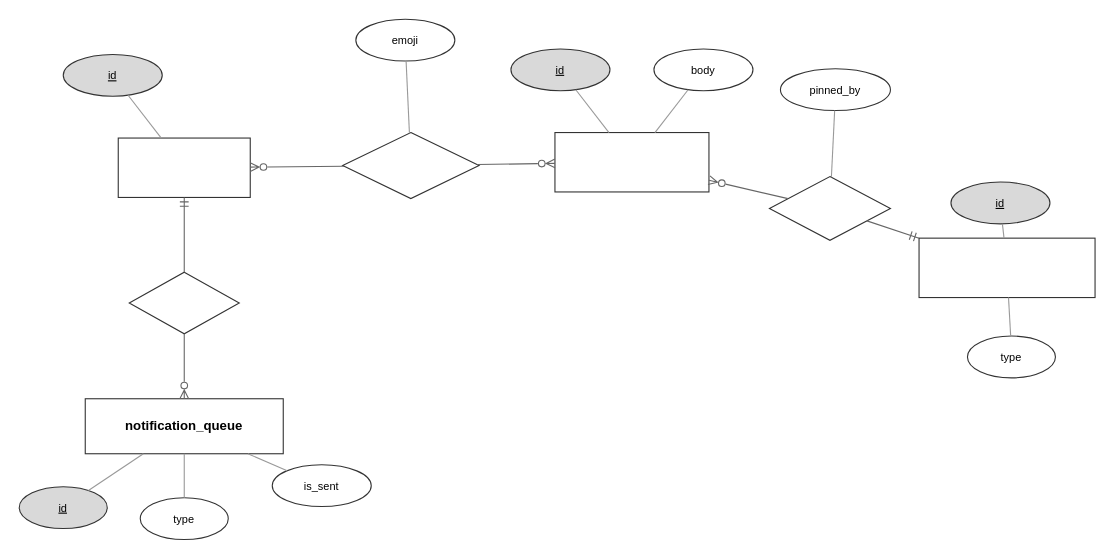
This 1114x559 diagram has some shape labels left out. Each missing label, with the centre of its shape:
Conversation: (x=1006, y=267)
ghim: (x=829, y=207)
Message: (x=631, y=161)
nhận: (x=183, y=302)
thả cảm xúc: (x=410, y=165)
User: (x=183, y=167)
